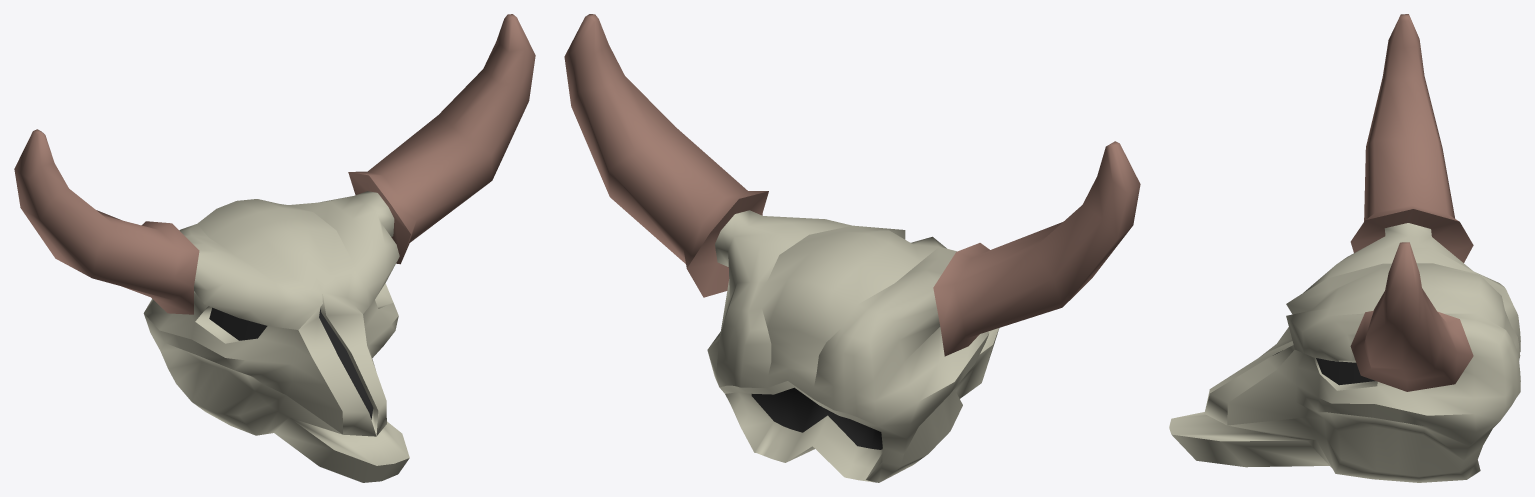
File: skull.fbx
3 renders of one model, left to right at view 1: azimuth 30°, elevation 25°; view 2: azimuth 150°, elevation 25°; view 3: azimuth 270°, elevation 25°, orthographic. The views are drawn at different scales.
Parts seen in each view (by area): view 1: Cube; view 2: Cube; view 3: Cube.
Boxes of the visible parts, bbox=[...] form: Cube: bbox=[14, 14, 535, 482]; Cube: bbox=[564, 14, 1140, 482]; Cube: bbox=[1169, 14, 1520, 482].
Size of the model in its own units: 147 by 90.55 by 88.79.
